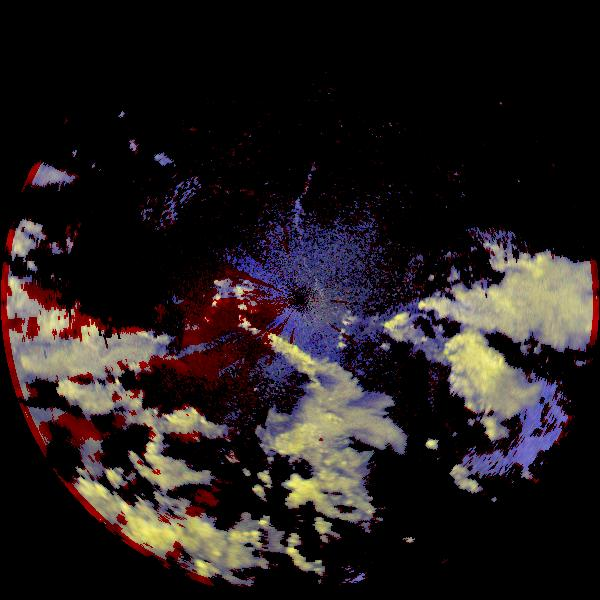roost: (115, 307, 223, 415)
